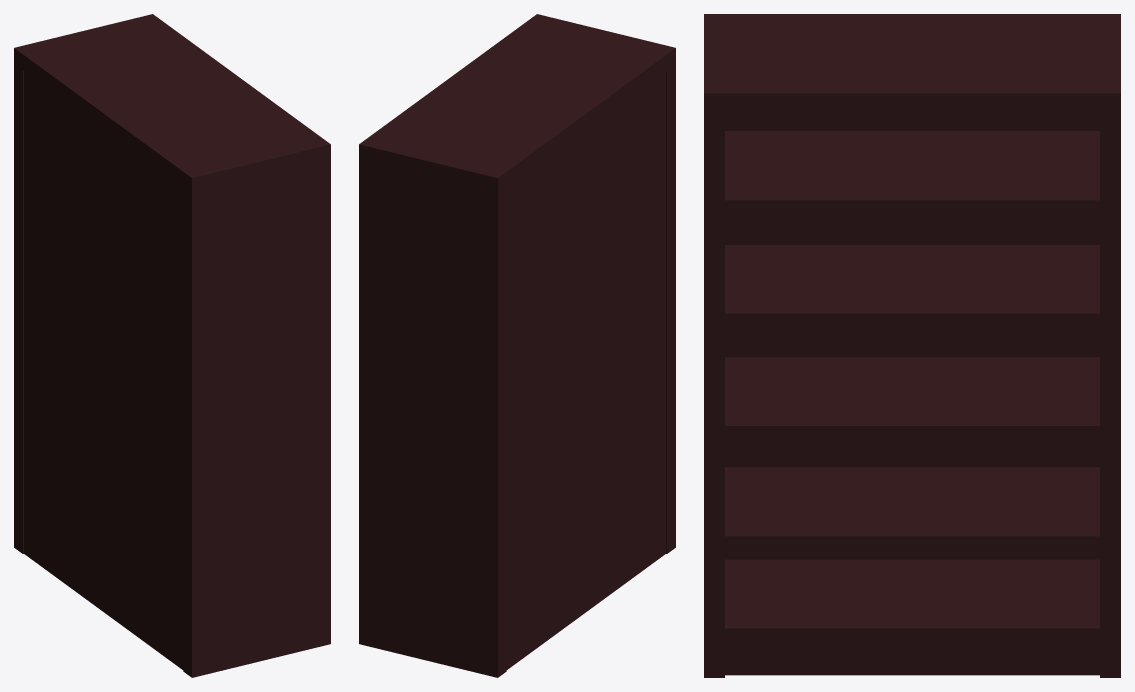
File: hondana.fbx
The picture shows the model from 3 angles, left to right: view 1: azimuth 30°, elevation 25°; view 2: azimuth 150°, elevation 25°; view 3: azimuth 270°, elevation 25°; orthographic projection. The views are drawn at different scales.
Visible parts, largest first — view 1: 立方体, 立方体.002, 立方体.005, 立方体.001; view 2: 立方体, 立方体.001, 立方体.005, 立方体.002; view 3: 立方体.005, 立方体, 立方体.004, 立方体.008, 立方体.003, 立方体.006, 立方体.007, 立方体.001, 立方体.002, 立方体.009.
Part boxes in pixels (x1=…): 立方体: x1=24, y1=71, x2=183, y2=669; 立方体.002: x1=183, y1=160, x2=330, y2=677; 立方体.005: x1=14, y1=14, x2=330, y2=193; 立方体.001: x1=14, y1=63, x2=23, y2=553; 立方体: x1=506, y1=71, x2=665, y2=669; 立方体.001: x1=359, y1=160, x2=506, y2=677; 立方体.005: x1=359, y1=14, x2=675, y2=193; 立方体.002: x1=666, y1=63, x2=675, y2=553; 立方体.005: x1=704, y1=14, x2=1120, y2=111; 立方体: x1=725, y1=112, x2=1099, y2=559; 立方体.004: x1=725, y1=131, x2=1099, y2=219; 立方体.008: x1=725, y1=559, x2=1099, y2=647; 立方体.003: x1=725, y1=245, x2=1099, y2=332; 立方体.006: x1=725, y1=357, x2=1099, y2=444; 立方体.007: x1=725, y1=467, x2=1099, y2=554; 立方体.001: x1=1100, y1=111, x2=1120, y2=677; 立方体.002: x1=704, y1=112, x2=724, y2=677; 立方体.009: x1=725, y1=647, x2=1099, y2=675.
Bounding box in the file's own units: 45 × 155 × 100.
